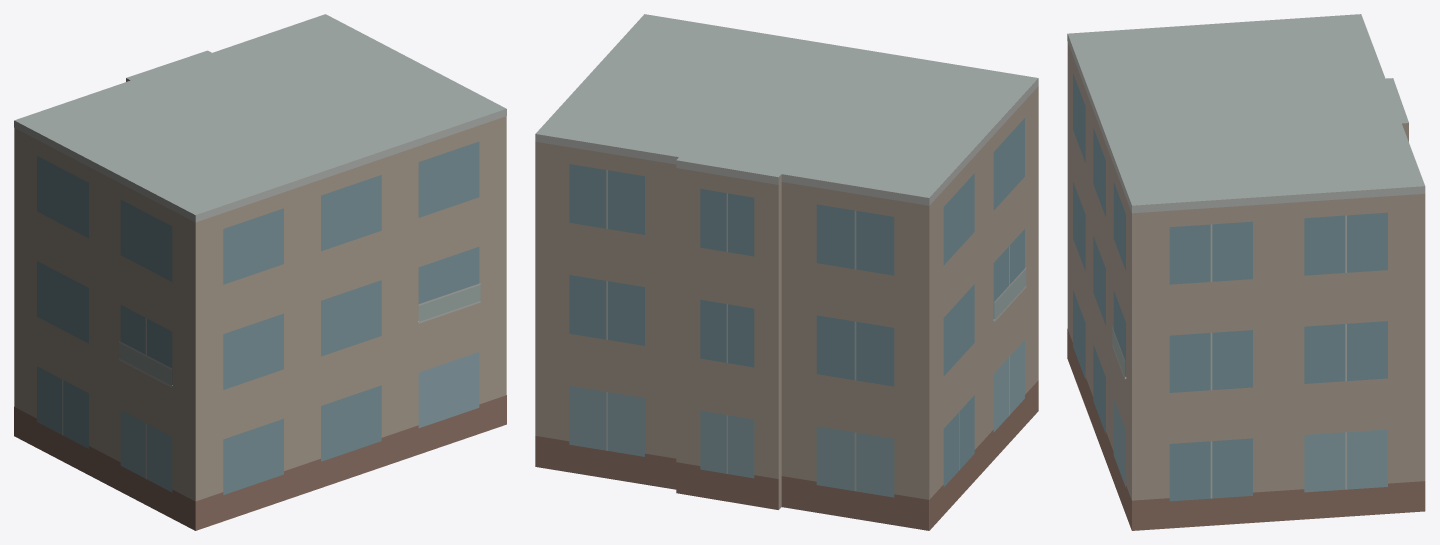
File: survey-upis-32739174.glb
The picture shows the model from 3 angles, left to right: view 1: azimuth 30°, elevation 25°; view 2: azimuth 150°, elevation 25°; view 3: azimuth 270°, elevation 25°; orthographic projection. The views are drawn at different scales.
Visible parts, largest first — view 1: survey-upis-32739174.tmp; view 2: survey-upis-32739174.tmp; view 3: survey-upis-32739174.tmp.
Boxes of the visible parts, <box> form: survey-upis-32739174.tmp: <box>14,14,506,530</box>; survey-upis-32739174.tmp: <box>535,14,1038,530</box>; survey-upis-32739174.tmp: <box>1067,14,1425,530</box>.
Size of the model in its own units: 13.29 by 10.5 by 10.48.
